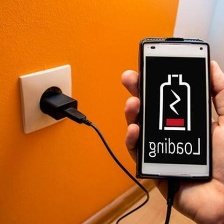phone: (134, 36, 214, 184)
